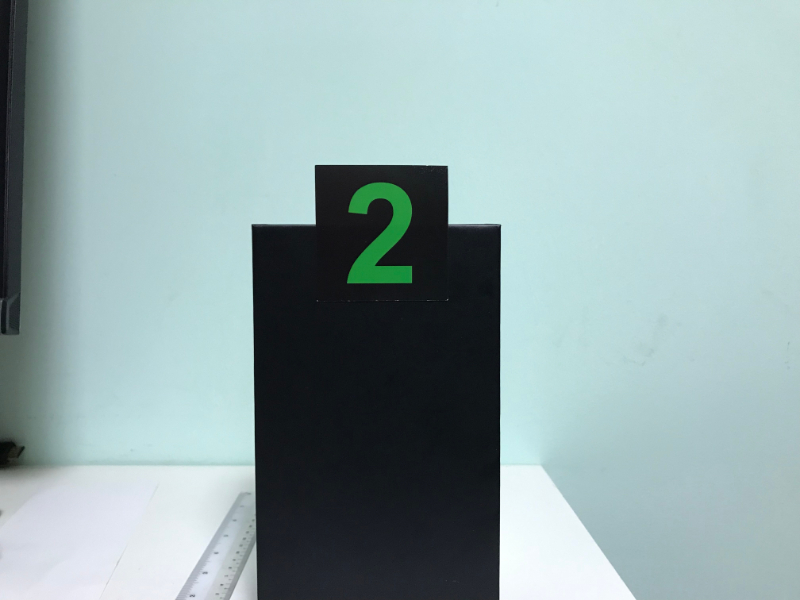Two-7: (319, 169, 445, 297)
